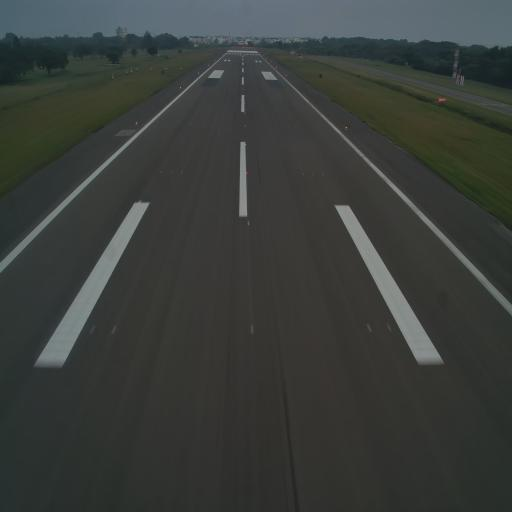off: (109, 320, 119, 338), (384, 318, 394, 335), (89, 320, 97, 338), (366, 321, 374, 335), (169, 167, 174, 177), (321, 170, 326, 180), (180, 168, 186, 176), (300, 170, 305, 178), (160, 168, 164, 177), (312, 170, 316, 176)
on: (248, 320, 256, 336), (245, 218, 253, 228), (244, 169, 250, 180), (244, 142, 248, 150), (134, 120, 138, 128), (345, 125, 349, 132)
